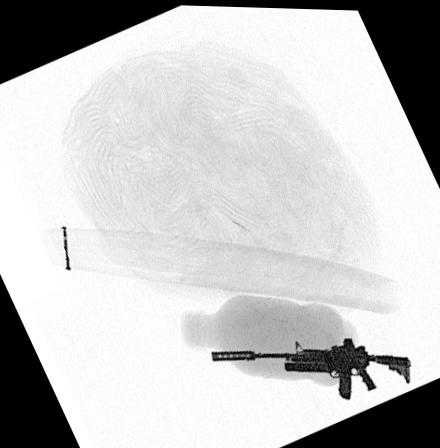Gun: (210, 335, 410, 399)
